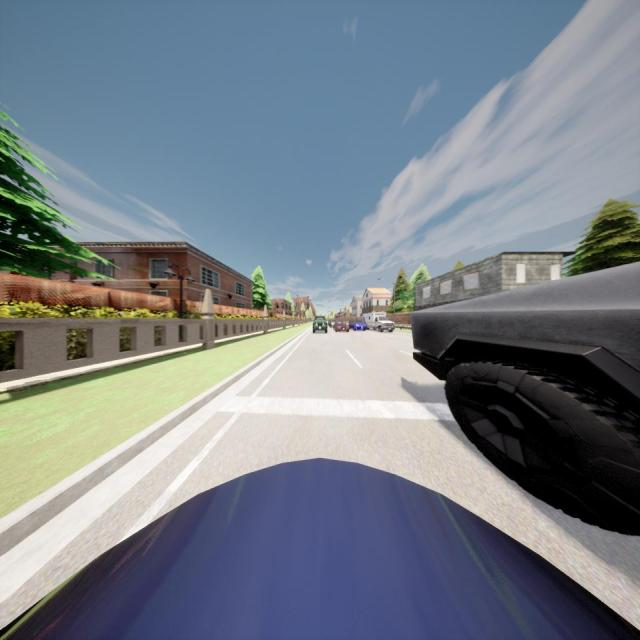Vehicle: (1, 457, 640, 640), (410, 258, 640, 536), (362, 312, 396, 333), (312, 316, 328, 334), (349, 320, 366, 332), (334, 321, 349, 332), (328, 320, 336, 328)
